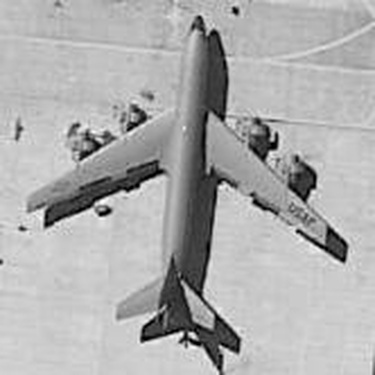airplane: (8, 9, 346, 354)
